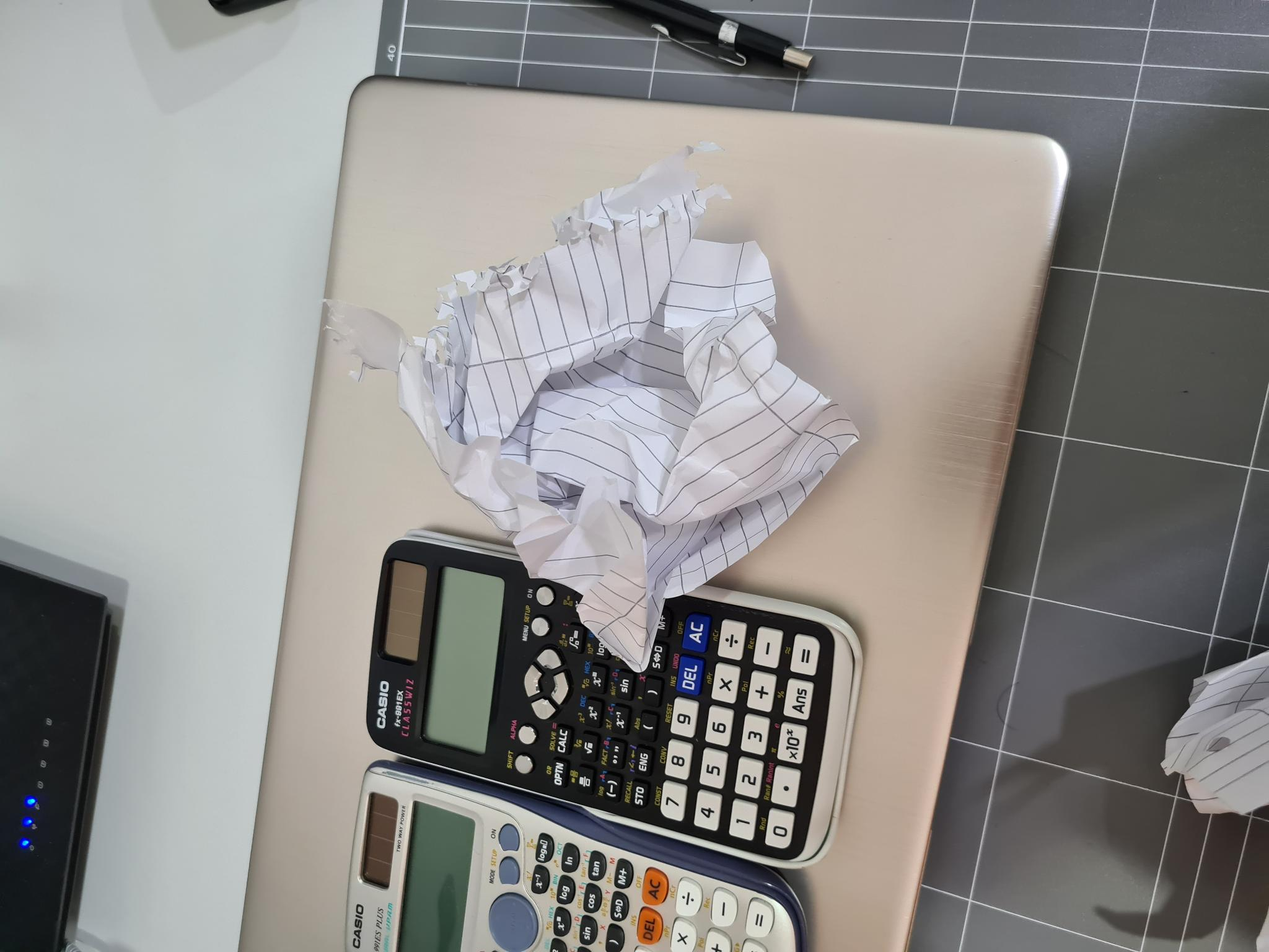Kertas: (269, 414, 805, 872)
